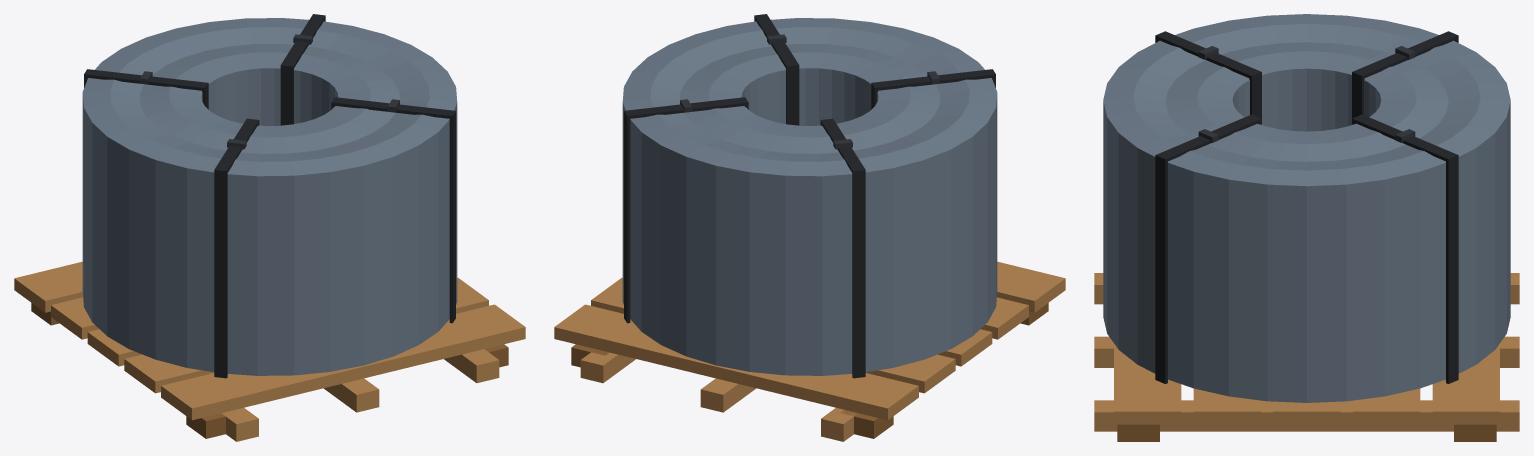
File: clark q1 steel coil.fbx
3 views of the same model, side by side, from view 1: azimuth 30°, elevation 25°; view 2: azimuth 150°, elevation 25°; view 3: azimuth 270°, elevation 25° (orthographic). The views are drawn at different scales.
Visible parts, largest first — view 1: Pallet_Runner_0.0_Pallet_Runner_0.0_Mesh; view 2: Pallet_Runner_0.0_Pallet_Runner_0.0_Mesh; view 3: Pallet_Runner_0.0_Pallet_Runner_0.0_Mesh.
Boxes of the visible parts, x1,y1,x2,y2 form: Pallet_Runner_0.0_Pallet_Runner_0.0_Mesh: [14, 14, 525, 441]; Pallet_Runner_0.0_Pallet_Runner_0.0_Mesh: [554, 14, 1065, 441]; Pallet_Runner_0.0_Pallet_Runner_0.0_Mesh: [1094, 14, 1519, 441].
Bounding box in the file's own units: 236 × 168 × 240.
